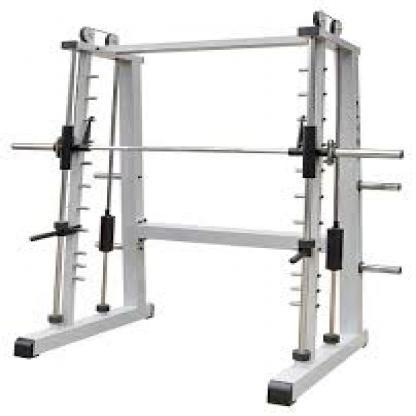smith machine: (11, 10, 403, 408)
